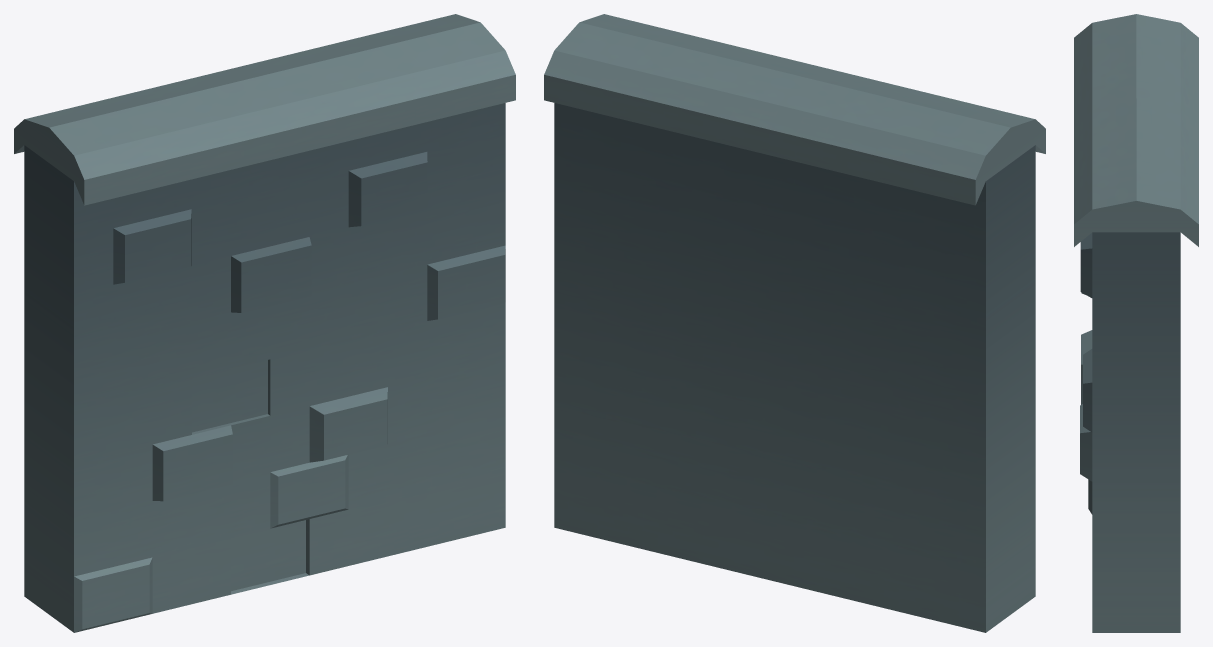
Rendered from stoneWall.fbx.
The picture shows the model from 3 angles, left to right: view 1: azimuth 30°, elevation 25°; view 2: azimuth 150°, elevation 25°; view 3: azimuth 270°, elevation 25°; orthographic projection. The views are drawn at different scales.
Parts seen in each view (by area): view 1: Cube.001; view 2: Cube.001; view 3: Cube.001.
Part boxes in pixels (x1=…): Cube.001: x1=14, y1=14, x2=515, y2=632; Cube.001: x1=544, y1=14, x2=1045, y2=632; Cube.001: x1=1074, y1=14, x2=1198, y2=632.
Size of the model in its own units: 100 by 28.2 by 108.
